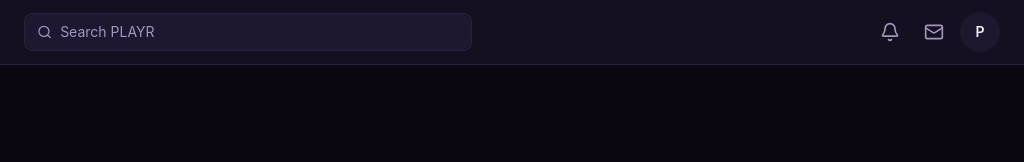
Test: TopBar › clears all recent searches when "Clear all" is clicked
Focus the search field labelled "Search PLAYR": point(260, 32) [60,22,459,42]
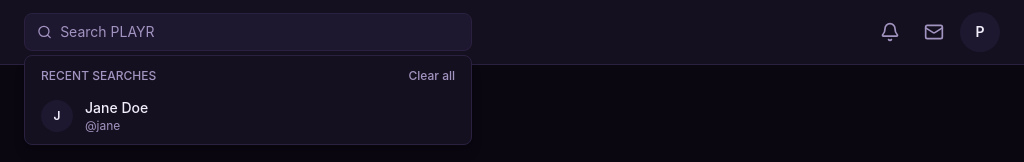
Click the button "Clear all": point(432, 76) [408,68,455,84]
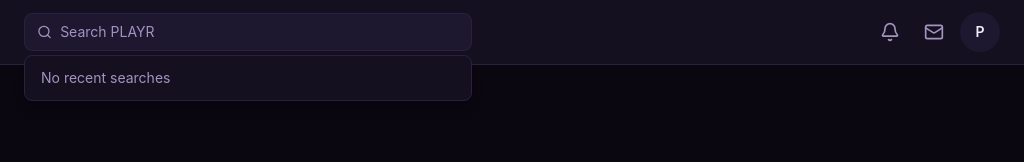
Now the button "Jane Doe" is gone
